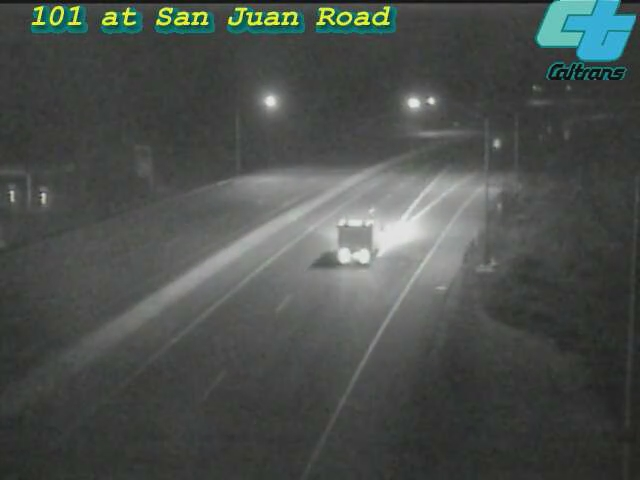vehicle: (319, 196, 399, 276)
